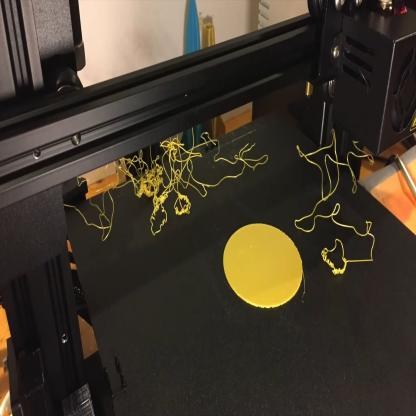fail: (119, 134, 230, 247), (303, 145, 381, 275)
